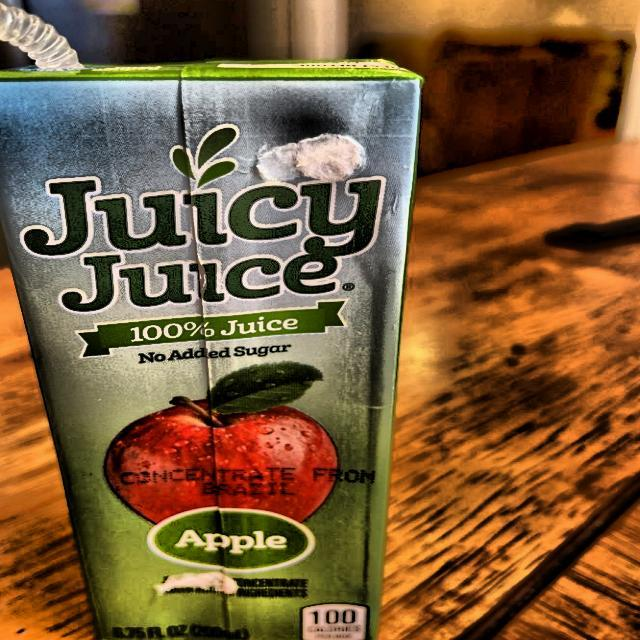cardboard: (0, 57, 424, 640)
